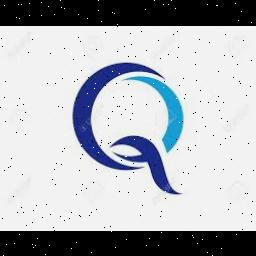q: (70, 58, 194, 200)
